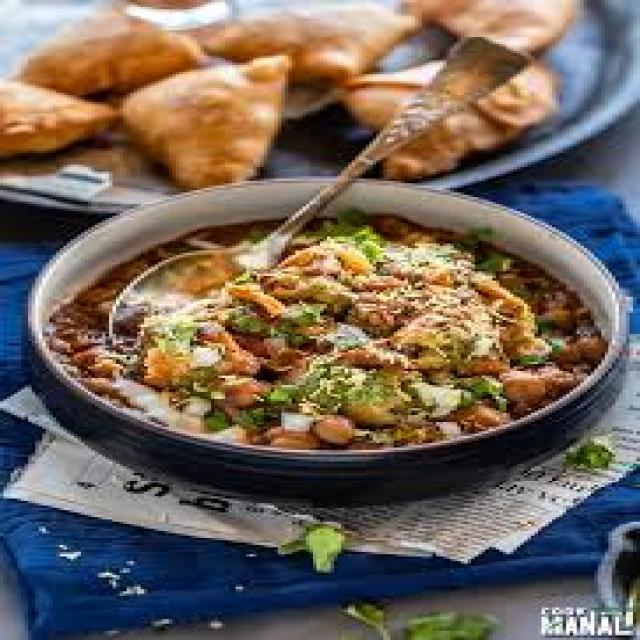SAMOSA: (350, 66, 557, 180), (115, 59, 286, 188), (181, 7, 424, 88), (0, 77, 105, 160), (423, 2, 575, 53)
